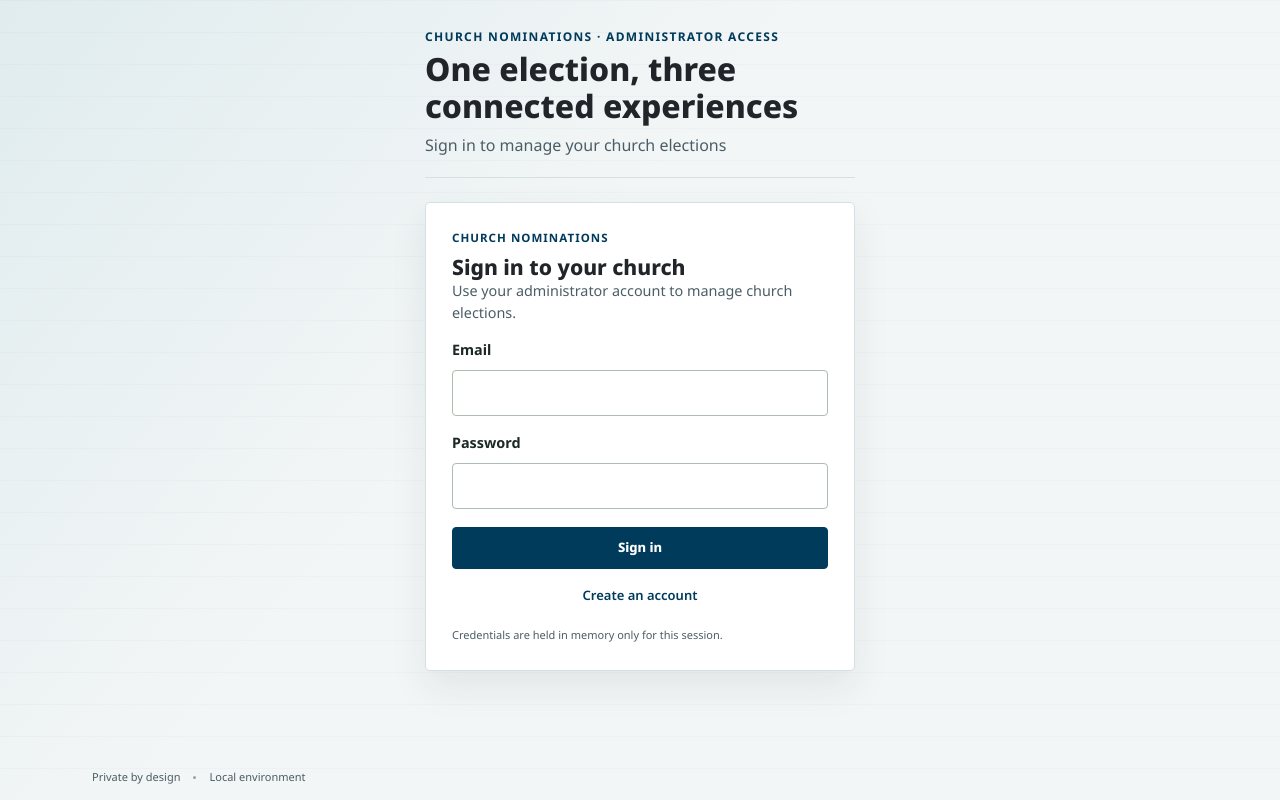
Test: election administration › collapses and expands position groups with the Bootstrap accordion control
In the field labelled "Email": point(640, 393) left=452, top=370, right=828, bottom=416, type "admin@example.com"
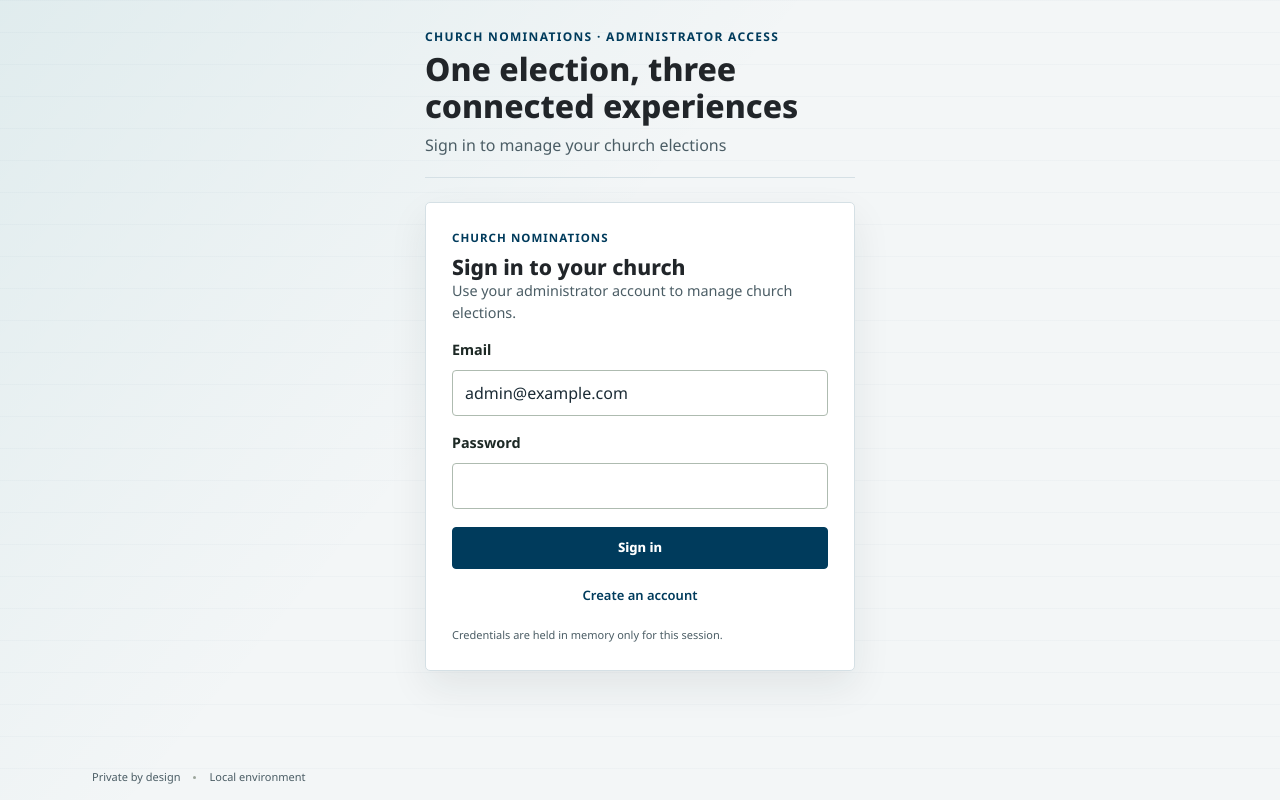
In the password field labelled "Password": point(640, 486) left=452, top=463, right=828, bottom=509, type "secret"
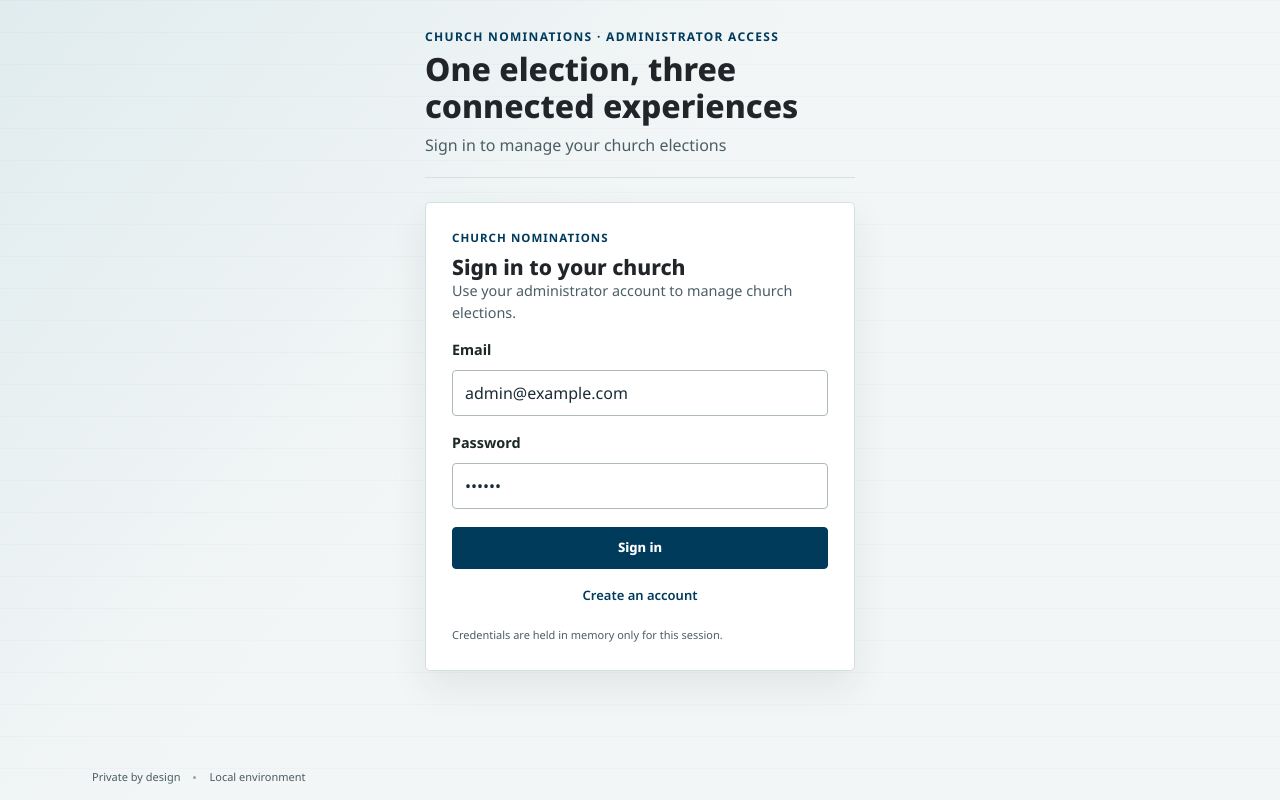
Click the button "Sign in": point(640, 548) left=452, top=527, right=828, bottom=569
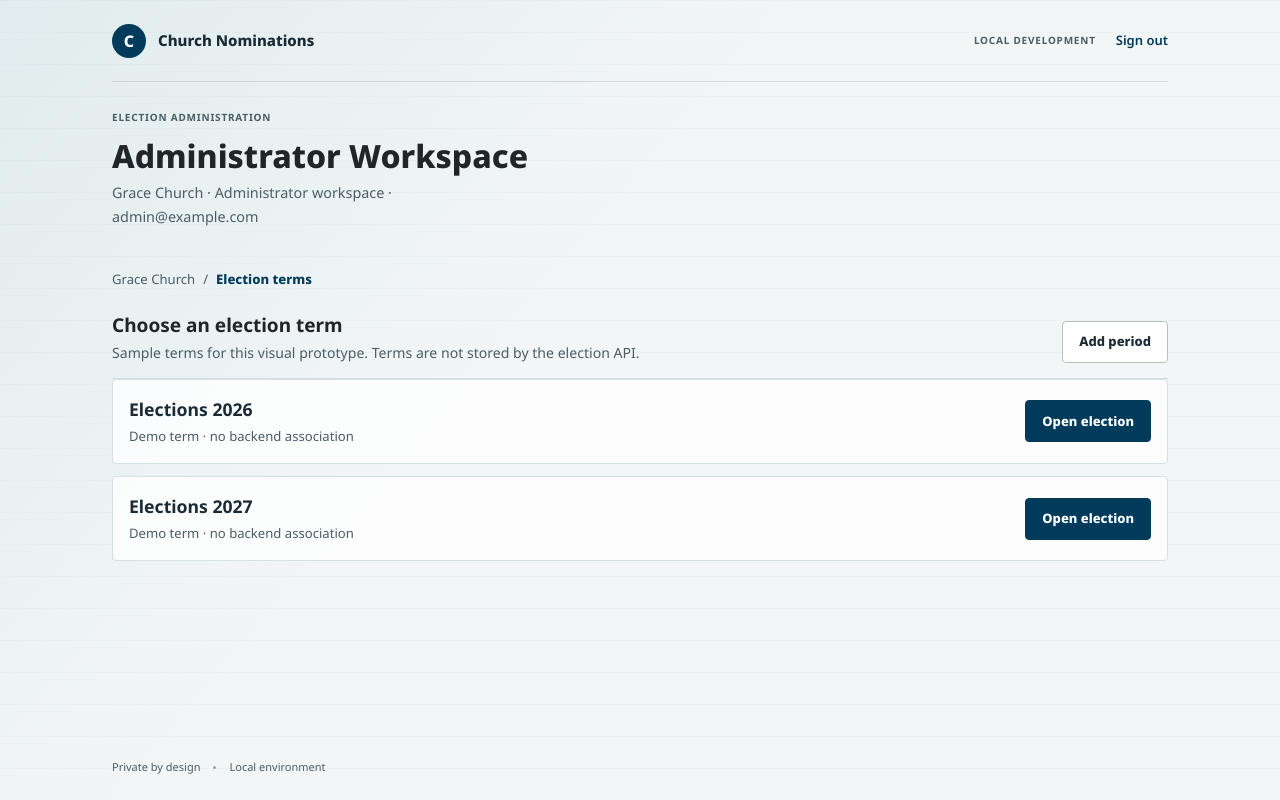
Click the button "Open election" in the row of "Elections 2026": point(1088, 422) left=1025, top=400, right=1151, bottom=442
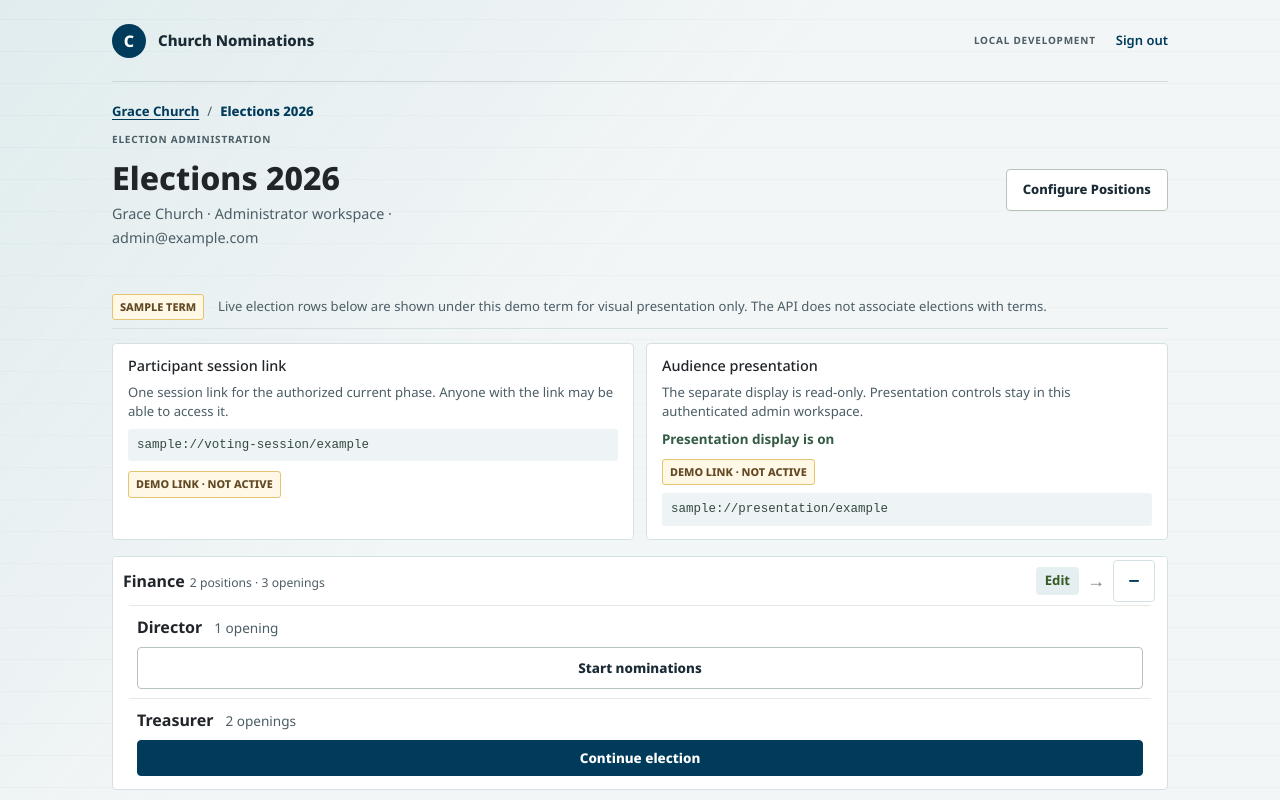
Now the list named "Finance positions" is shown, box left=113, top=605, right=1167, bottom=789
Click the button named "Collapse positions": point(1134, 581) left=1113, top=560, right=1155, bottom=602
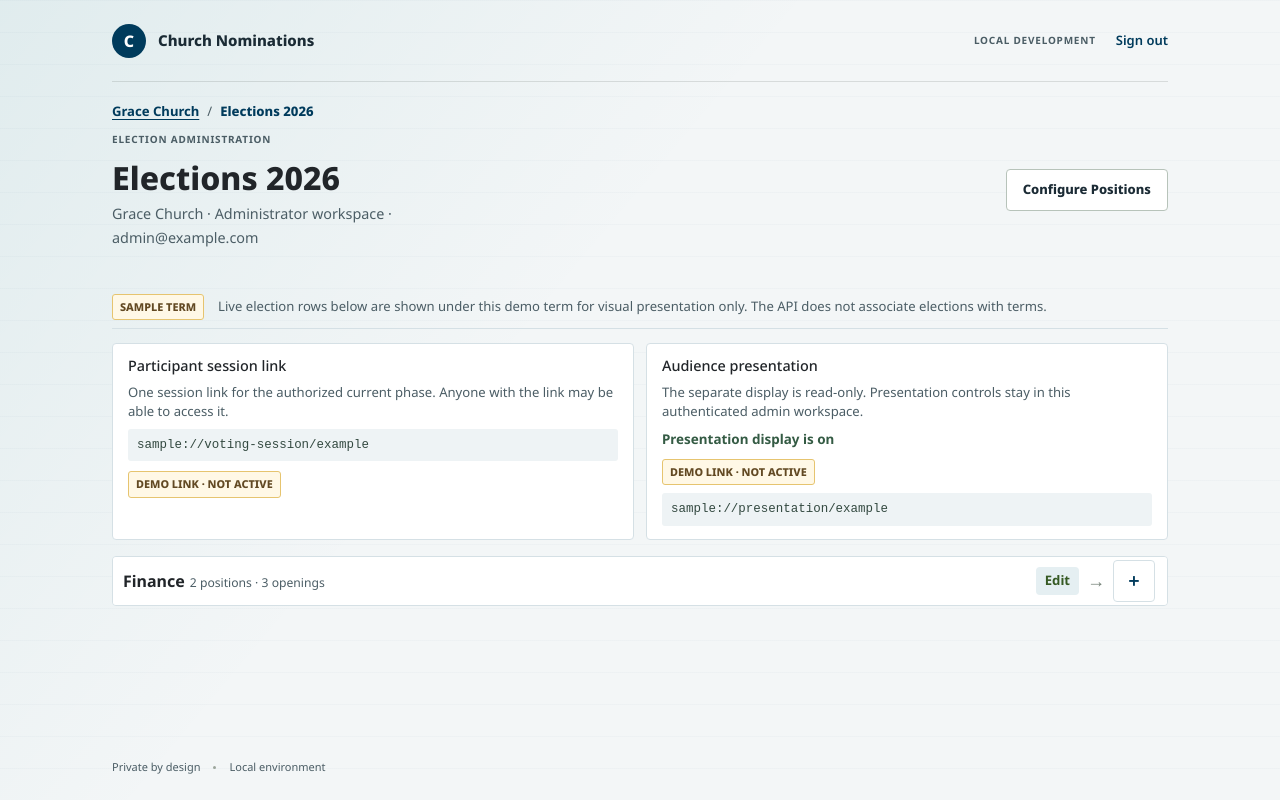
Click the button named "Expand positions": point(1134, 581) left=1113, top=560, right=1155, bottom=602
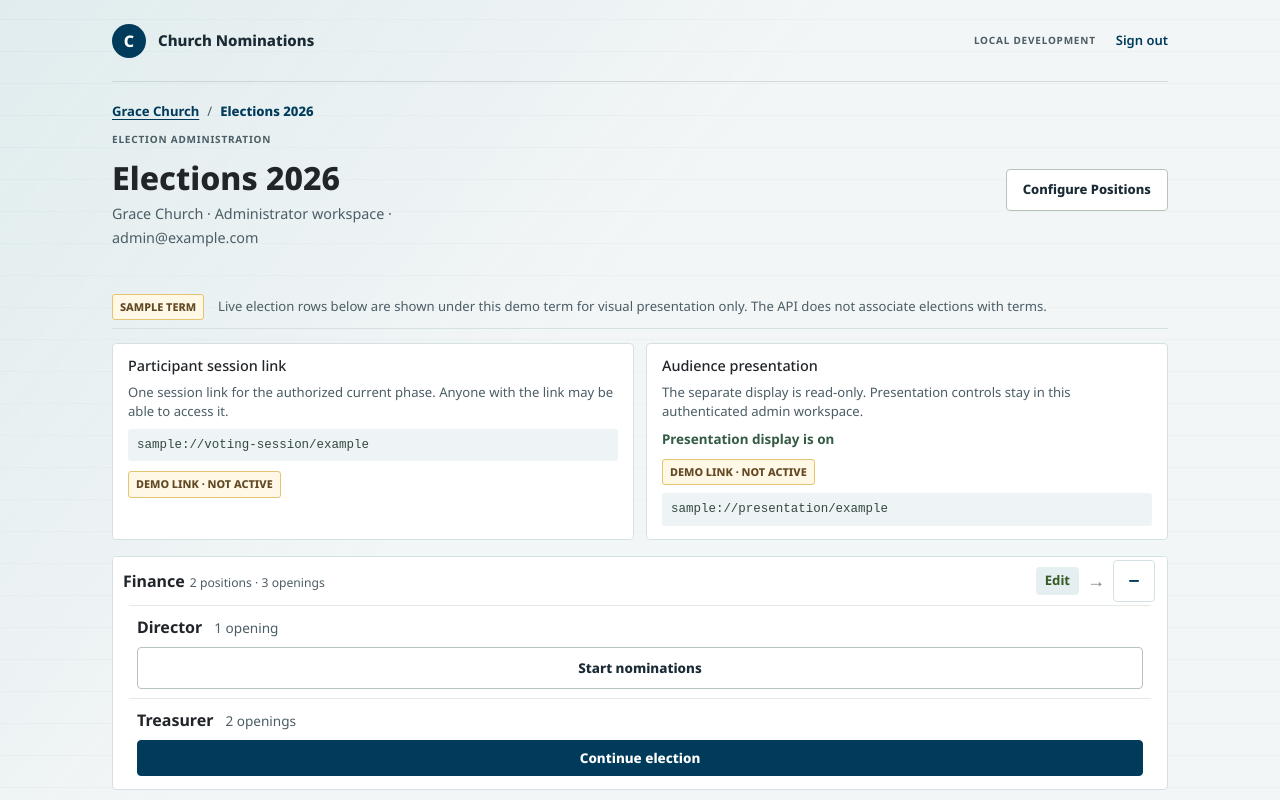
Now the list named "Finance positions" is shown, box left=113, top=605, right=1167, bottom=789
